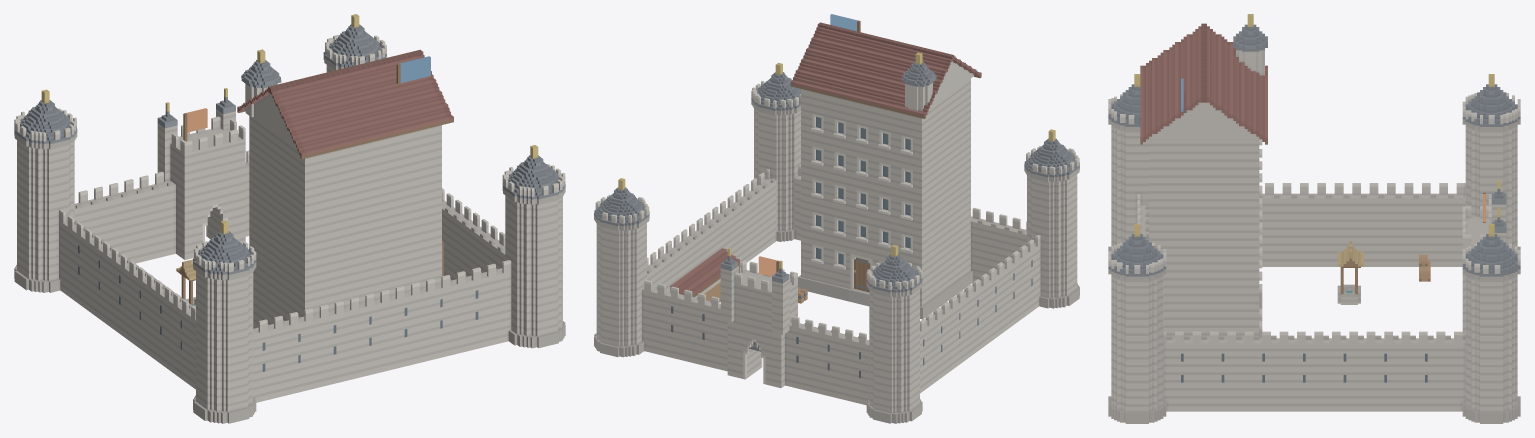
File: castle.glb
3 views of the same model, side by side, from view 1: azimuth 30°, elevation 25°; view 2: azimuth 150°, elevation 25°; view 3: azimuth 270°, elevation 25° (orthographic). The views are drawn at different scales.
Visible parts, largest first — view 1: castle; view 2: castle; view 3: castle.
Boxes of the visible parts, x1=… form: castle: x1=14, y1=14, x2=565, y2=423; castle: x1=594, y1=14, x2=1079, y2=423; castle: x1=1108, y1=14, x2=1520, y2=423.
Size of the model in its own units: 11.83 by 9.25 by 11.83.
